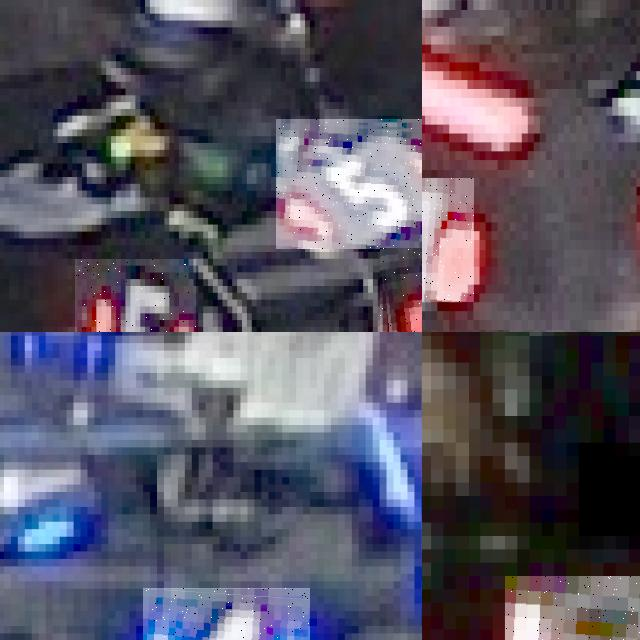B4: (143, 588, 310, 640)
R4: (422, 177, 473, 302)
R5: (275, 119, 422, 248), (75, 258, 196, 332), (380, 248, 422, 332)
Rs: (505, 575, 640, 640)
